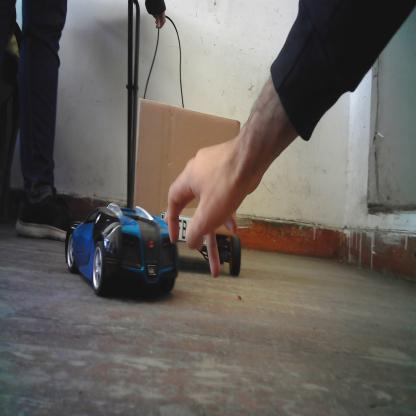LeadTruck: (132, 88, 243, 276)
